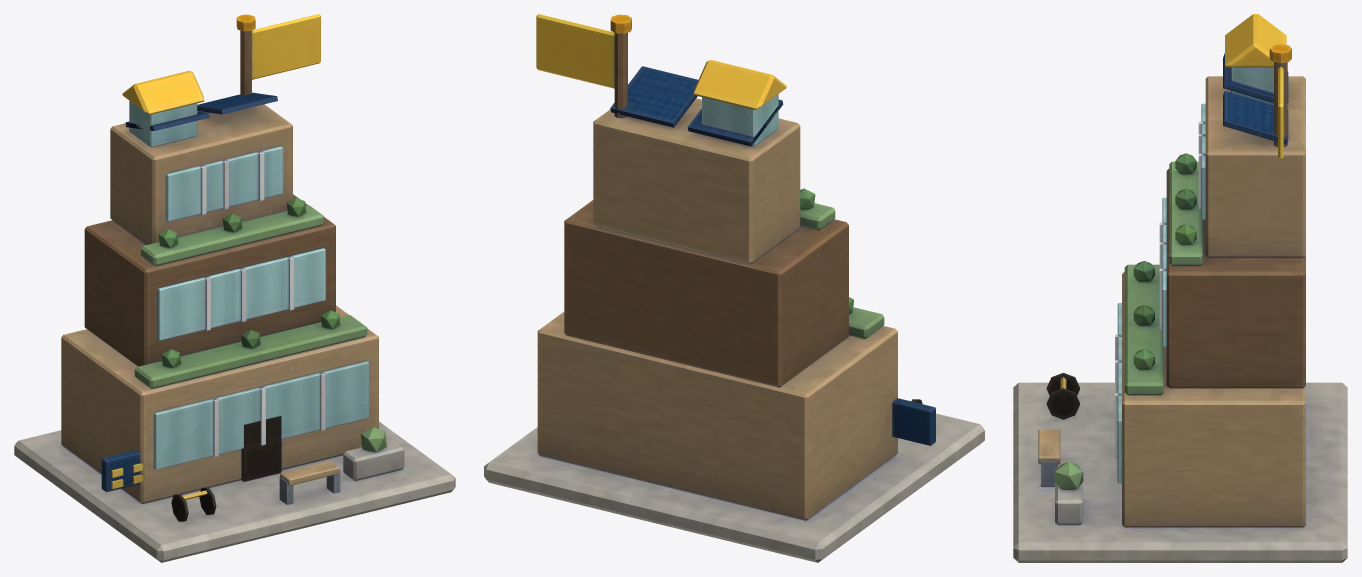
Rendered from shelters-30.glb.
The picture shows the model from 3 angles, left to right: view 1: azimuth 30°, elevation 25°; view 2: azimuth 150°, elevation 25°; view 3: azimuth 270°, elevation 25°; orthographic projection. The views are drawn at different scales.
Visible parts, largest first — view 1: shelters-30; view 2: shelters-30; view 3: shelters-30.
Part boxes in pixels (<box>): shelters-30: <box>14,14,455,562</box>; shelters-30: <box>484,14,984,562</box>; shelters-30: <box>1013,14,1347,562</box>.
Bounding box in the file's own units: 1.42 × 1.84 × 1.2.
1 material, 1 textured.
